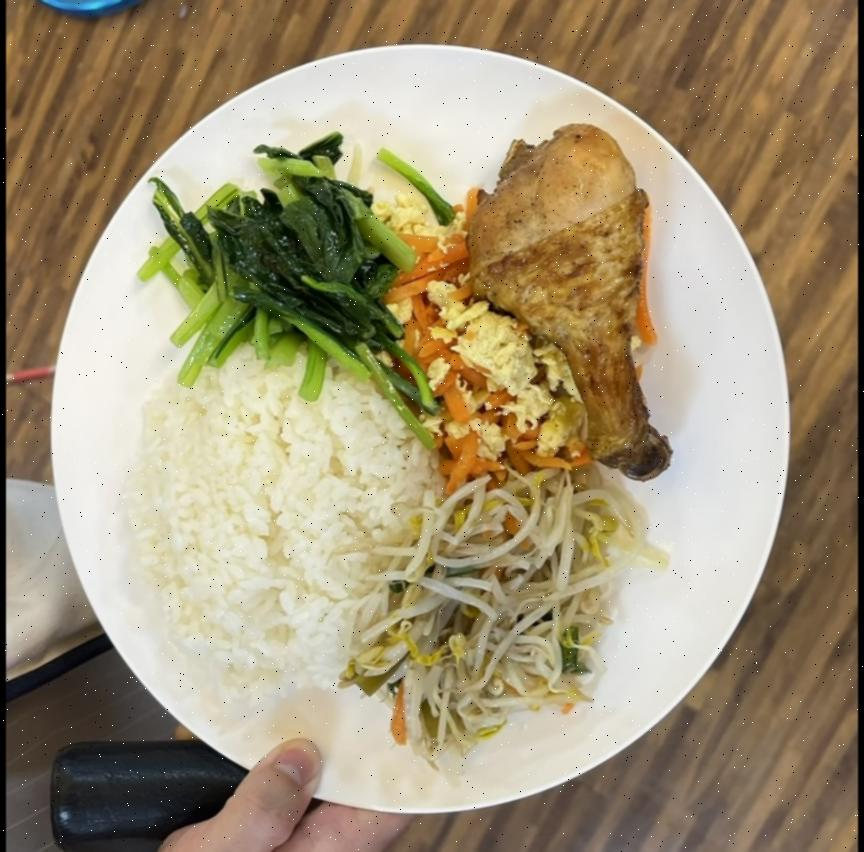plate: (45, 46, 804, 826)
side dish: (360, 464, 626, 756), (140, 126, 402, 392), (383, 190, 584, 468)
small grilled chicken leg: (466, 119, 672, 477)
white rice: (114, 355, 424, 686)
